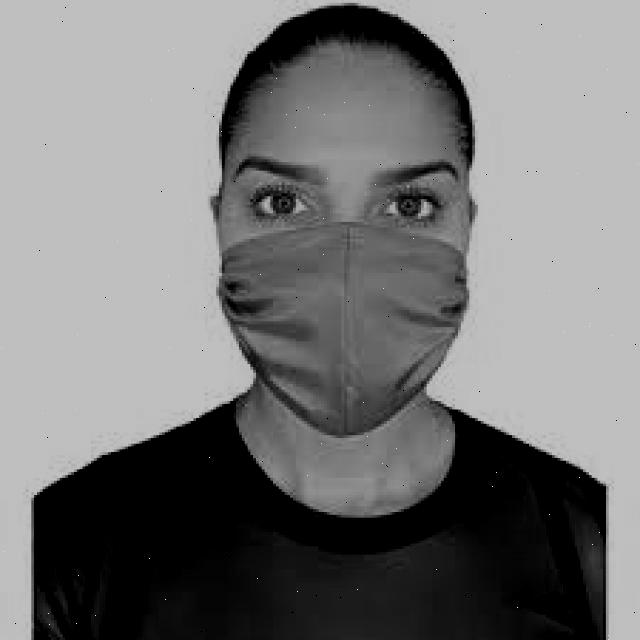fake: (194, 215, 472, 445)
real: (214, 49, 478, 446)
